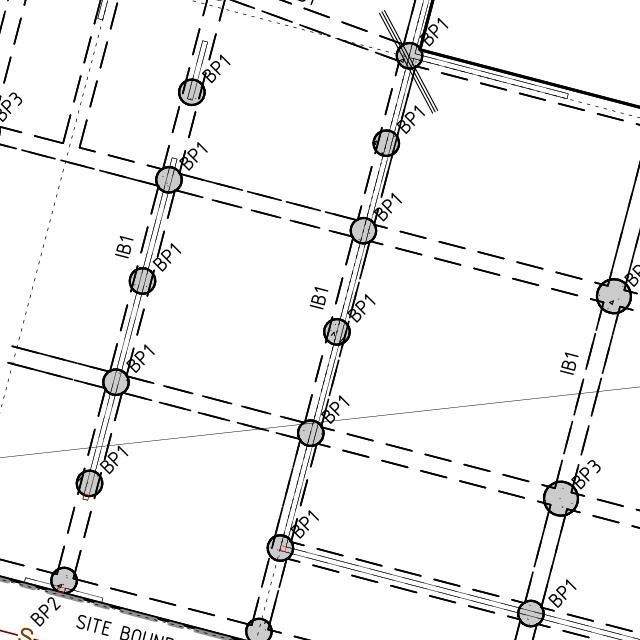BP1: (360, 186, 412, 220), (387, 98, 436, 134), (538, 570, 578, 612), (282, 507, 324, 541), (116, 336, 156, 371), (344, 288, 380, 325), (97, 437, 131, 475), (178, 139, 214, 171), (421, 15, 455, 46), (316, 395, 350, 424), (148, 242, 183, 270), (202, 49, 229, 80)
BP2: (17, 588, 70, 631)
IB1: (305, 271, 333, 314), (112, 217, 136, 263), (551, 341, 583, 375)
